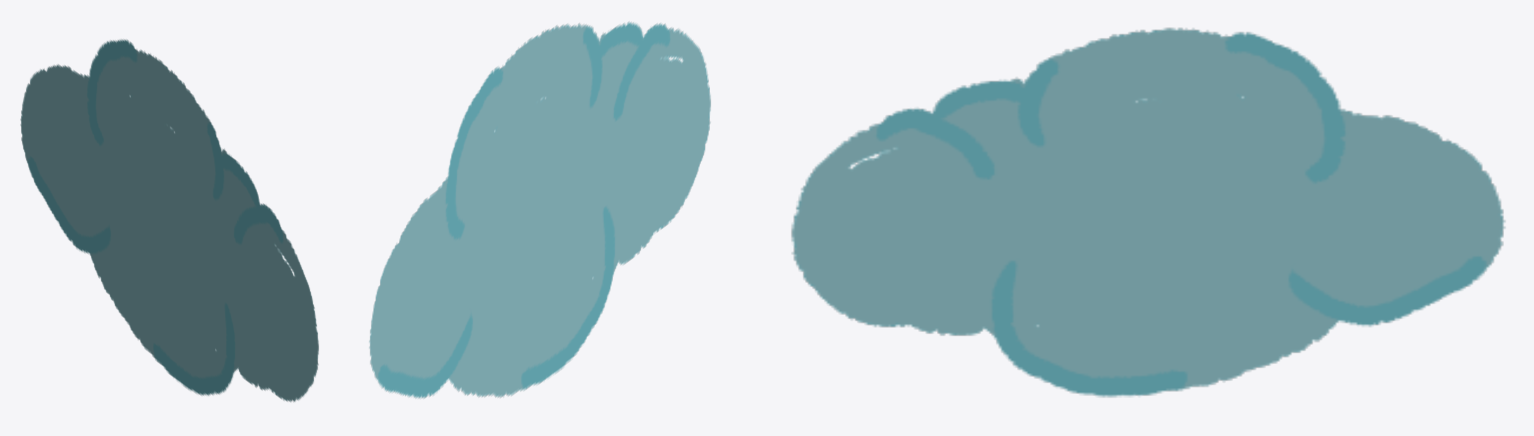
The model's file is mesh-stand3.glb.
3 renders of one model, left to right at view 1: azimuth 30°, elevation 25°; view 2: azimuth 150°, elevation 25°; view 3: azimuth 270°, elevation 25°, orthographic. The views are drawn at different scales.
Parts seen in each view (by area): view 1: s3.001; view 2: s3.001; view 3: s3.001.
Part boxes in pixels (x1=…): s3.001: x1=20, y1=39, x2=318, y2=401; s3.001: x1=369, y1=21, x2=710, y2=398; s3.001: x1=791, y1=27, x2=1505, y2=397.
Bounding box in the file's own units: 0 × 0.2389 × 0.4053.
Materials: 1 (1 with a texture image).
